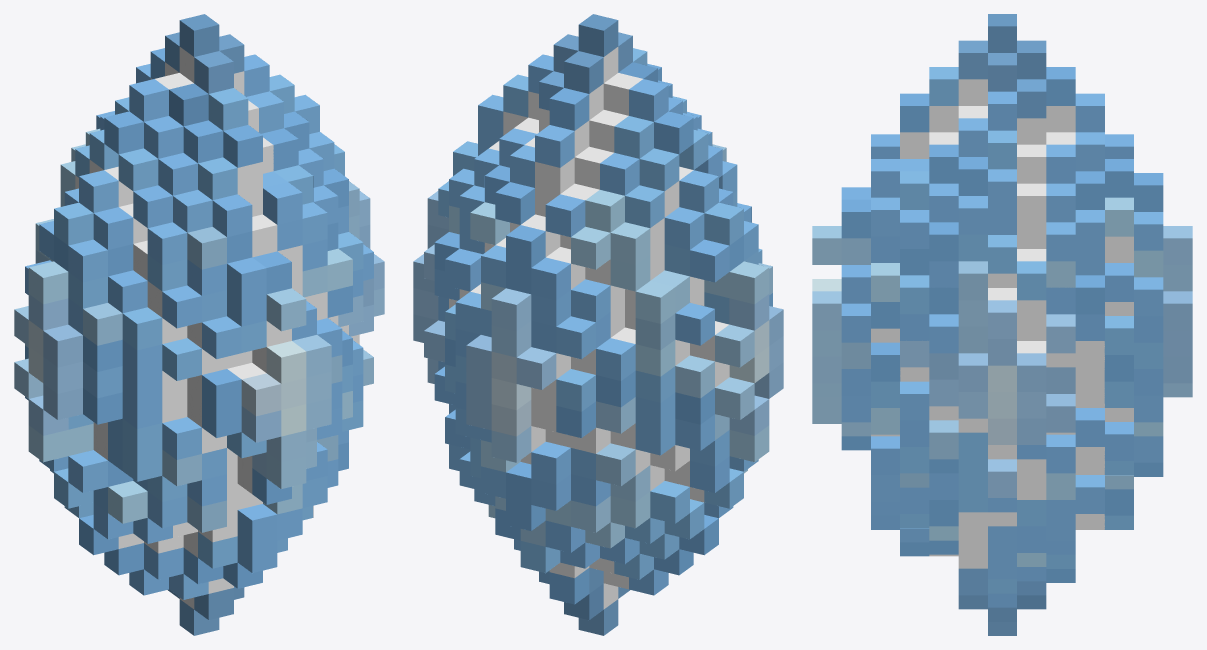
Rendered from FrostFiendFrozenEffectCracked-transparent.obj.
3 renders of one model, left to right at view 1: azimuth 30°, elevation 25°; view 2: azimuth 150°, elevation 25°; view 3: azimuth 270°, elevation 25°, orthographic.
Parts seen in each view (by area): view 1: FrostFiendFrozenEffectCracked-transparent; view 2: FrostFiendFrozenEffectCracked-transparent; view 3: FrostFiendFrozenEffectCracked-transparent.
Part boxes in pixels (x1,y1,x2,y2): FrostFiendFrozenEffectCracked-transparent: [14, 14, 384, 635]; FrostFiendFrozenEffectCracked-transparent: [413, 14, 783, 635]; FrostFiendFrozenEffectCracked-transparent: [812, 14, 1192, 635].
Bounding box in the file's own units: 13 × 23 × 13.
1 material, 1 textured.
